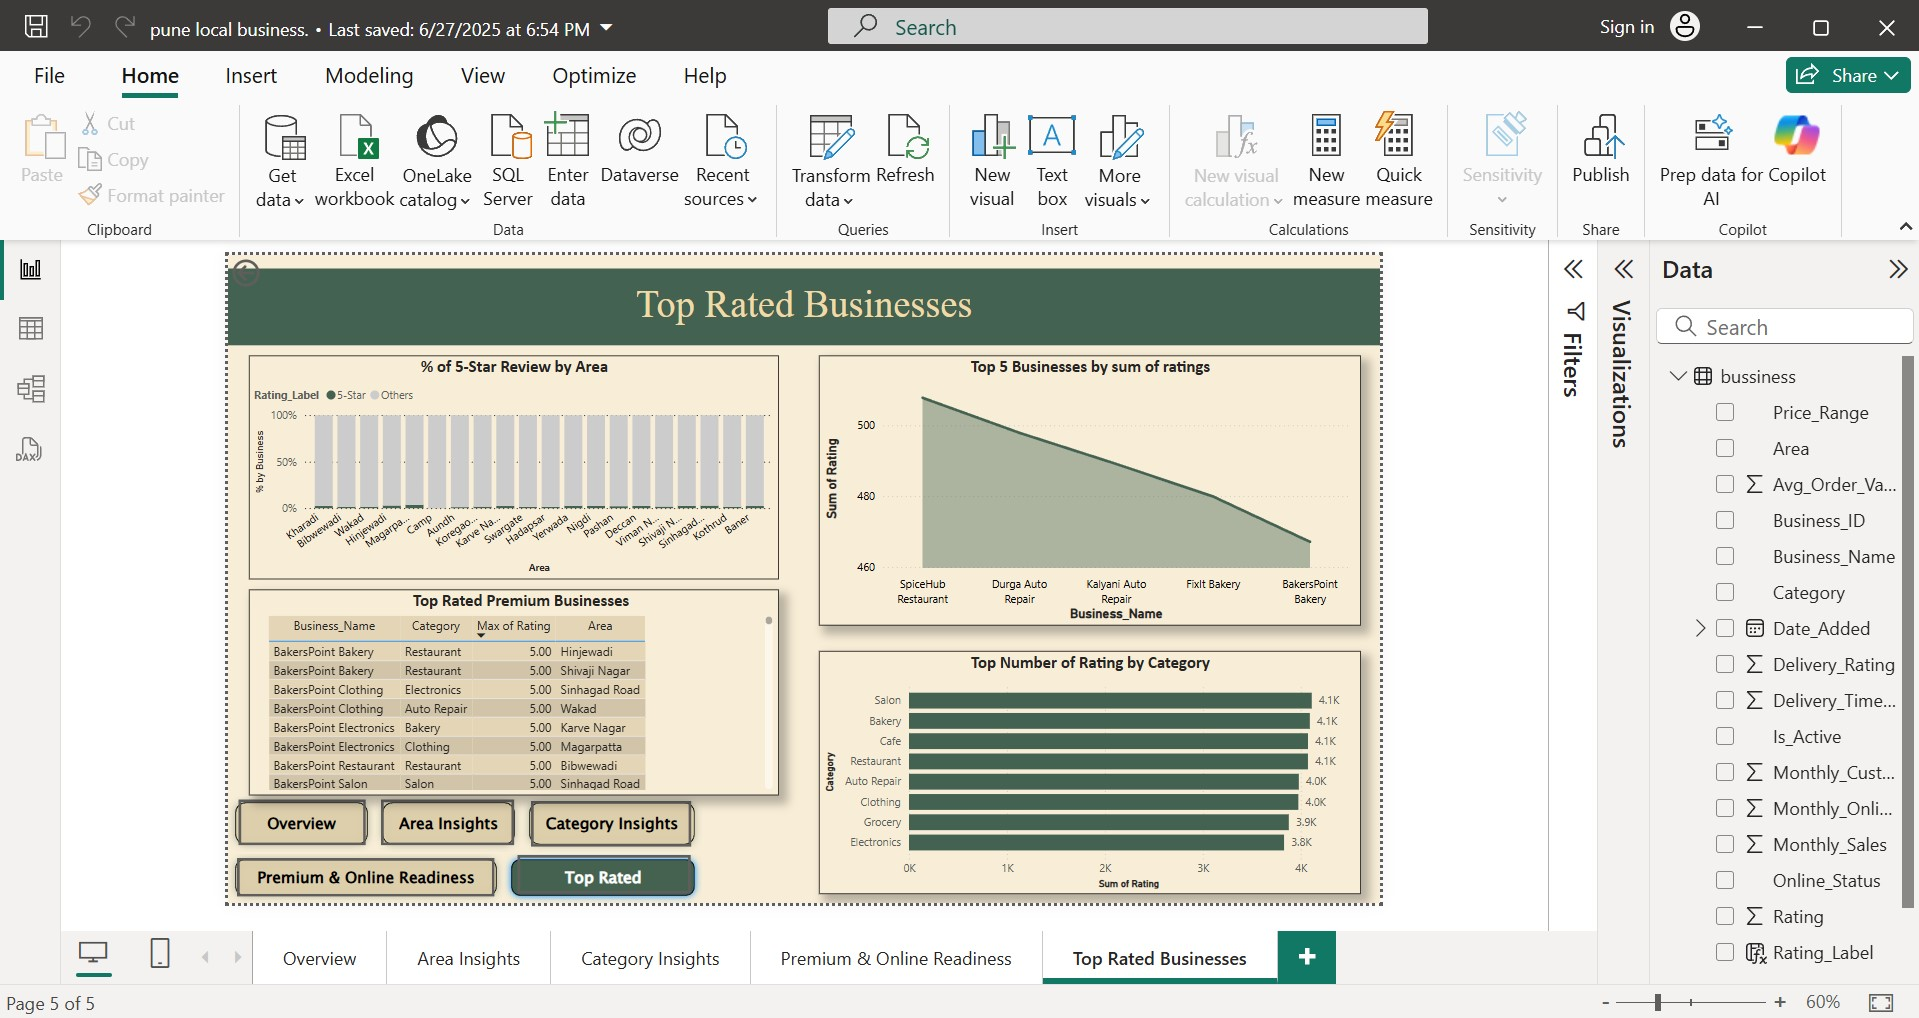

What the dashboard file says about the page in this screenshot:
{"tool":"powerbi","page":{"name":"Top Rated Businesses","canvas":[1280,720],"ordinal":4},"visuals":[{"type":"shape","box":[0,663.3,306.7,56.7],"z":0},{"type":"shape","box":[326.7,600,200,63.3],"z":1000},{"type":"shape","box":[163.3,600,163.3,63.3],"z":2000},{"type":"shape","box":[306.7,663.3,220,56.7],"z":3000},{"type":"textbox","box":[0,15,1280,85],"z":4000},{"type":"shape","box":[0,600,163.3,63.3],"z":5000},{"type":"actionButton","box":[170.2,604.4,147.9,50.9],"z":6000},{"type":"actionButton","box":[11.1,604.4,141.6,50.9],"z":7000},{"type":"actionButton","box":[337.2,606,178.1,50.9],"z":8000},{"type":"actionButton","box":[9.5,669.6,286.3,42.9],"z":9000},{"type":"actionButton","box":[321.3,666.5,192.5,42.9],"z":10000},{"type":"barChart","title":"Top Number of Rating by Category","fields":{"Category":["bussiness.Category"],"Y":["Sum(bussiness.Rating)"]},"box":[656.7,440,601.7,270],"z":11000},{"type":"hundredPercentStackedColumnChart","title":"% of 5-Star Review by Area","fields":{"Category":["bussiness.Area"],"Y":["CountNonNull(bussiness.Business_ID)"],"Series":["bussiness.Rating_Label"]},"box":[23.3,111.7,588.3,248.3],"z":12000},{"type":"actionButton","box":[0,0,100,40],"z":13000},{"type":"areaChart","title":"Top 5 Businesses by sum of ratings","fields":{"Category":["bussiness.Business_Name"],"Y":["Sum(bussiness.Rating)"]},"box":[656.7,111.7,601.7,300],"z":14000},{"type":"tableEx","title":"Top Rated Premium Businesses","fields":{"Values":["bussiness.Business_Name","bussiness.Category","Max(bussiness.Rating)","bussiness.Area"]},"box":[23.3,371.7,588.3,228.3],"z":15000}]}

Visuals, with their boxes on the page's 1280x720 design canvas (x1, y1, x2, y2). These are canvas units, not pixel positions in the 1919x1018 screenshot, which may show the page scaled, cropped or inside an application window:
shape: x1=0, y1=663, x2=307, y2=720
shape: x1=327, y1=600, x2=527, y2=663
shape: x1=163, y1=600, x2=327, y2=663
shape: x1=307, y1=663, x2=527, y2=720
textbox: x1=0, y1=15, x2=1280, y2=100
shape: x1=0, y1=600, x2=163, y2=663
actionButton: x1=170, y1=604, x2=318, y2=655
actionButton: x1=11, y1=604, x2=153, y2=655
actionButton: x1=337, y1=606, x2=515, y2=657
actionButton: x1=10, y1=670, x2=296, y2=712
actionButton: x1=321, y1=666, x2=514, y2=709
"Top Number of Rating by Category" barChart: x1=657, y1=440, x2=1258, y2=710
"% of 5-Star Review by Area" hundredPercentStackedColumnChart: x1=23, y1=112, x2=612, y2=360
actionButton: x1=0, y1=0, x2=100, y2=40
"Top 5 Businesses by sum of ratings" areaChart: x1=657, y1=112, x2=1258, y2=412
"Top Rated Premium Businesses" tableEx: x1=23, y1=372, x2=612, y2=600
